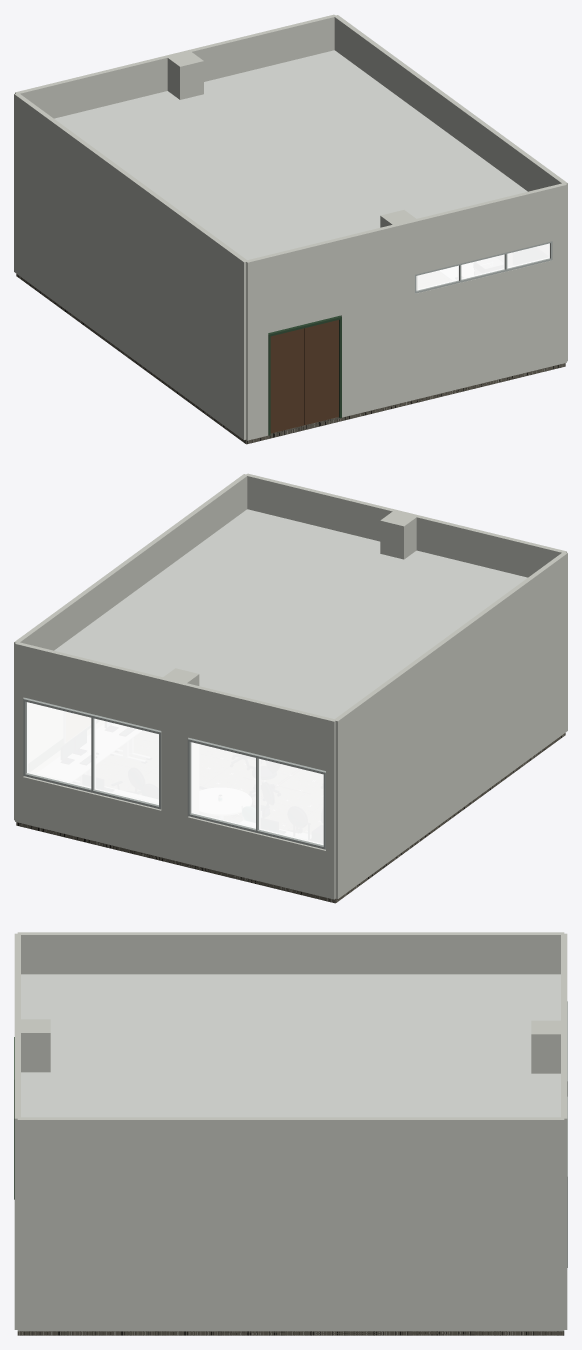
Rendered from labsea.glb.
3 views of the same model, one above another, from view 1: azimuth 30°, elevation 25°; view 2: azimuth 150°, elevation 25°; view 3: azimuth 270°, elevation 25° (orthographic). The views are drawn at different scales.
Visible parts, largest first — view 1: Ceiling_PVC, Parede_south, Parede_west, Parede_north, Parede_east, P6_entrada_folha_direita, P6_entrada_folha_esquerda, Piso, Pilar_J21, J16_Vidro_Modulo_2, J16_Vidro_Modulo_3, J16_Vidro_Modulo_1; view 2: Ceiling_PVC, Parede_west, Parede_north, Parede_south, J21_01_vidro, J21_02_vidro, Parede_east, Piso, Pilar_J21.001, J21_01_batente_superior, J21_02_batente_superior, J21_02_batente_inferior (+1 smaller); view 3: Parede_east, Ceiling_PVC, Parede_west, Piso, Parede_north, Parede_south, Pilar_J21, Pilar_J21.001.
Boxes of the visible parts, x1,y1,x2,y2 form: Ceiling_PVC: (54, 50, 527, 259); Parede_south: (245, 183, 566, 440); Parede_west: (14, 93, 246, 439); Parede_north: (15, 14, 335, 118); Parede_east: (334, 15, 567, 361); P6_entrada_folha_direita: (304, 320, 338, 425); P6_entrada_folha_esquerda: (270, 328, 303, 433); Piso: (16, 274, 565, 444); Pilar_J21: (167, 51, 203, 99); J16_Vidro_Modulo_2: (461, 254, 504, 279); J16_Vidro_Modulo_3: (507, 243, 549, 268); J16_Vidro_Modulo_1: (416, 265, 458, 290); Ceiling_PVC: (54, 509, 527, 718); Parede_west: (335, 552, 567, 898); Parede_north: (15, 642, 336, 899); Parede_south: (245, 473, 566, 577); J21_01_vidro: (191, 742, 323, 845); J21_02_vidro: (27, 702, 158, 804); Parede_east: (14, 474, 247, 820); Piso: (16, 733, 565, 903); Pilar_J21.001: (380, 511, 416, 559); J21_01_batente_superior: (188, 738, 325, 774); J21_02_batente_superior: (23, 698, 161, 733); J21_02_batente_inferior: (24, 773, 161, 809); Parede_east: (17, 1117, 564, 1331); Ceiling_PVC: (21, 974, 560, 1117); Parede_west: (17, 932, 564, 974); Piso: (17, 1331, 564, 1335); Parede_north: (561, 933, 567, 1329); Parede_south: (14, 933, 20, 1329); Pilar_J21: (531, 1020, 564, 1073); Pilar_J21.001: (18, 1019, 50, 1072).
Size of the model in its own units: 7.05 by 3.8 by 8.79.
27 materials, 1 textured.
